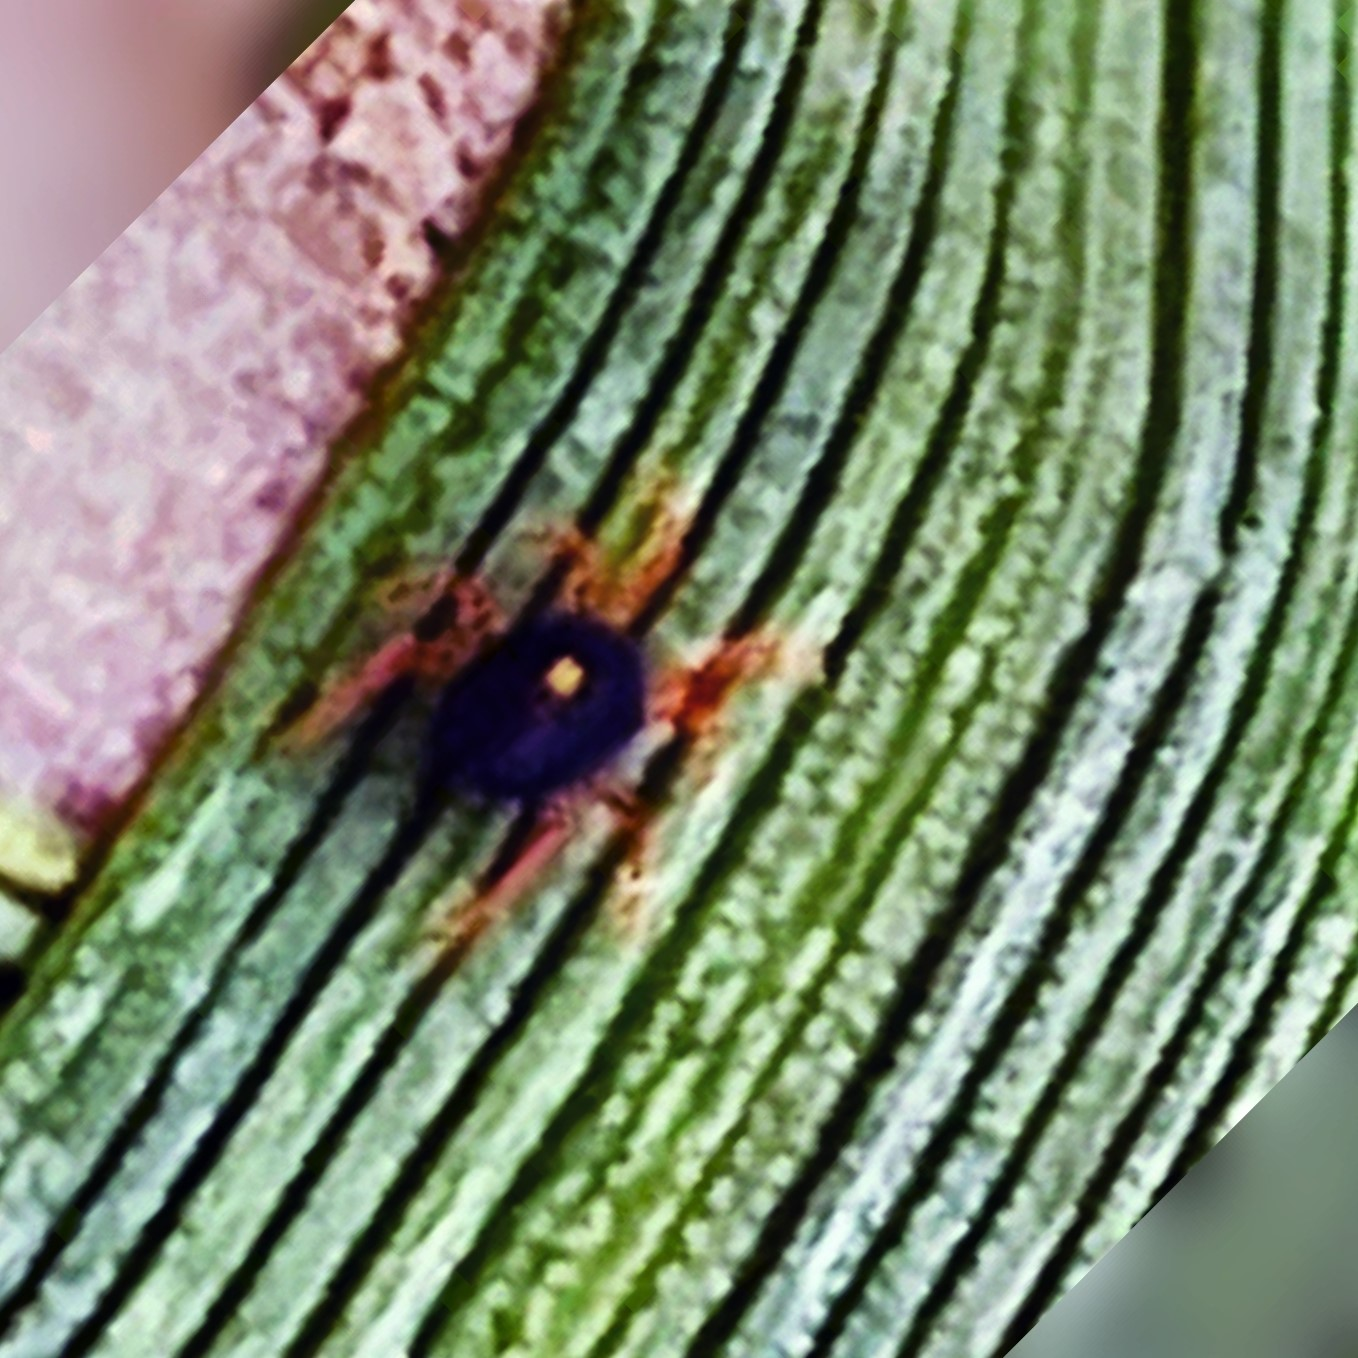Wheat Red Spider: (270, 458, 813, 960)
